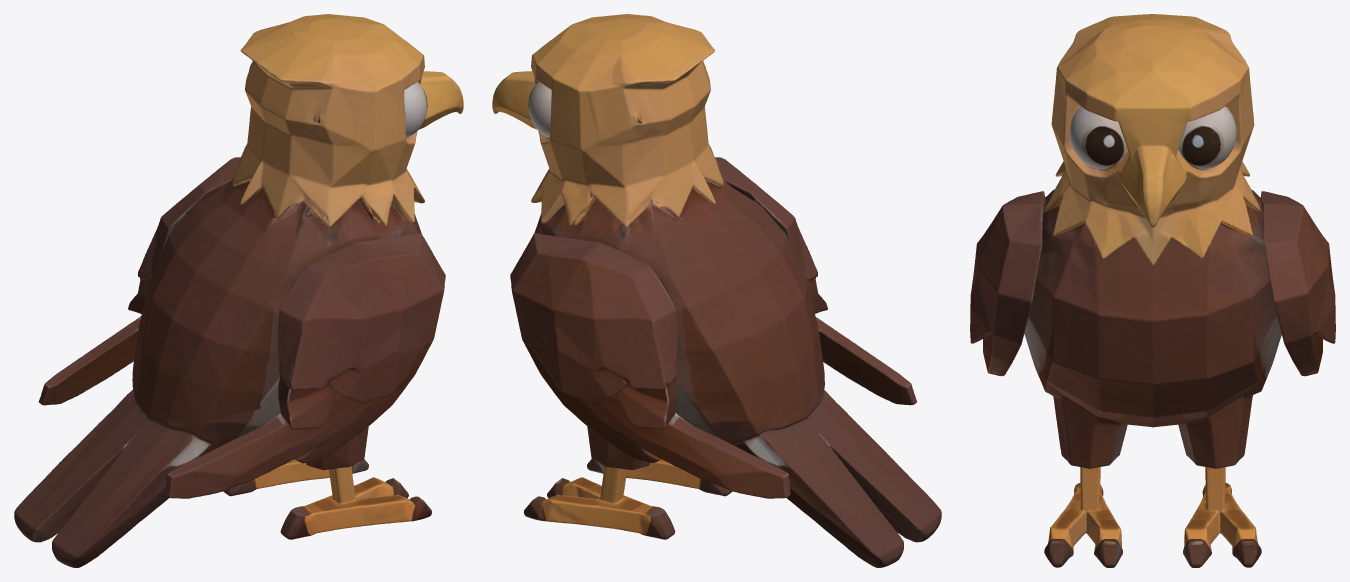
File: eaglet.glb
3 views of the same model, side by side, from view 1: azimuth 30°, elevation 25°; view 2: azimuth 150°, elevation 25°; view 3: azimuth 270°, elevation 25° (orthographic). The views are drawn at different scales.
Parts seen in each view (by area): view 1: tripo_node_6e6e701e-d10b-49e2-9019-d34d8128d321; view 2: tripo_node_6e6e701e-d10b-49e2-9019-d34d8128d321; view 3: tripo_node_6e6e701e-d10b-49e2-9019-d34d8128d321.
Part boxes in pixels (<box>): tripo_node_6e6e701e-d10b-49e2-9019-d34d8128d321: <box>14,14,463,567</box>; tripo_node_6e6e701e-d10b-49e2-9019-d34d8128d321: <box>492,14,941,567</box>; tripo_node_6e6e701e-d10b-49e2-9019-d34d8128d321: <box>970,14,1335,567</box>.
Bounding box in the file's own units: 0.9405 × 1 × 0.6536.
1 material, 1 textured.
